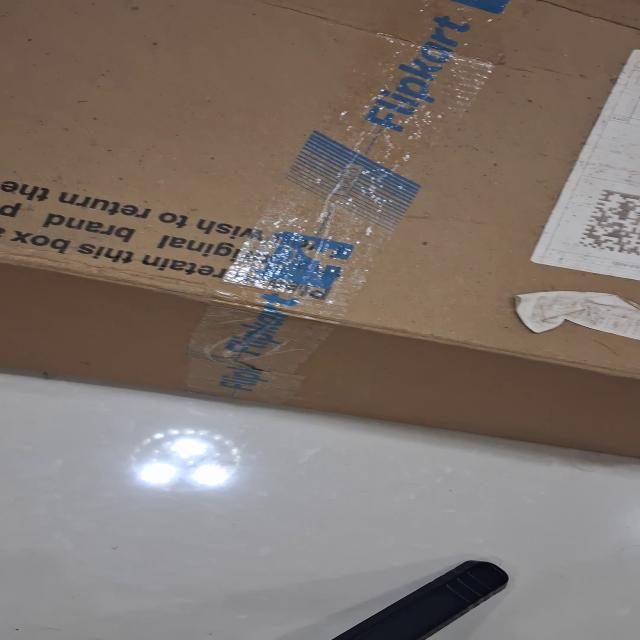paper: (528, 48, 639, 281), (512, 290, 638, 340)
